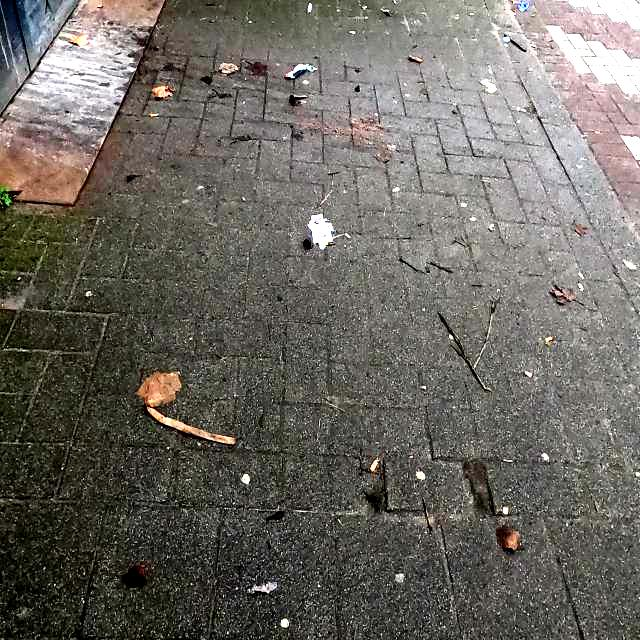Paper: (307, 213, 335, 249)
Plastic: (284, 63, 318, 79)
